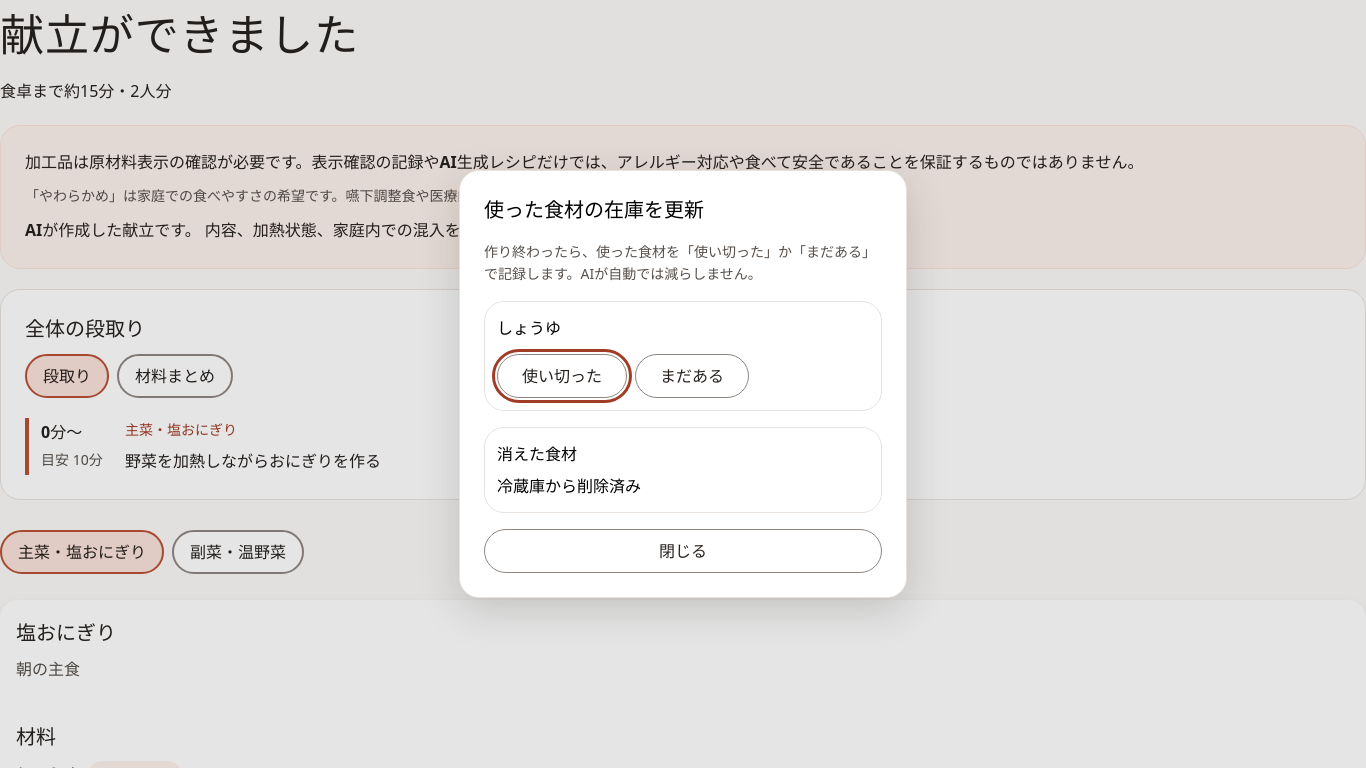
Test: cancels destructive pantry delete without writing
Step 1. Click the button "使い切った" → coordinates (562, 376), box [497, 354, 627, 398]
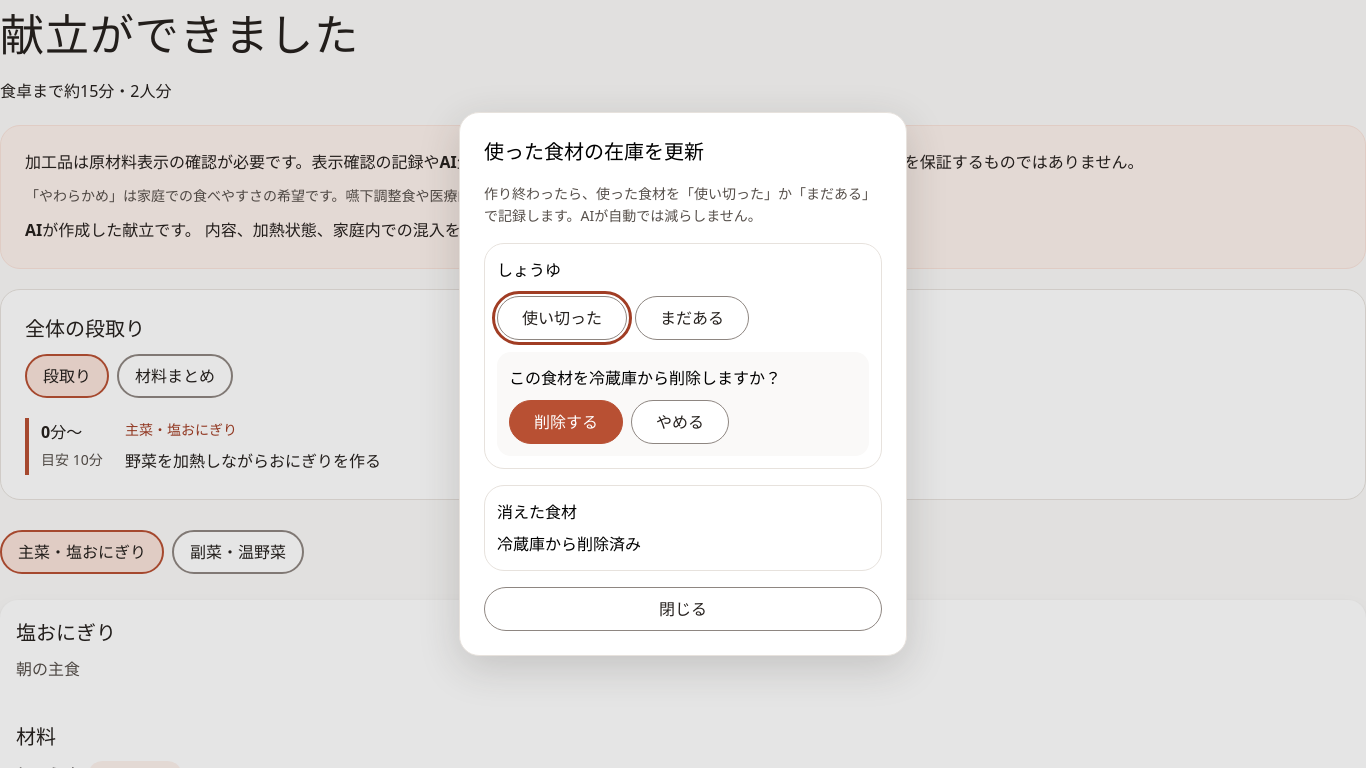
Expected: the text "この食材を冷蔵庫から削除しますか？" is shown, [509, 367, 781, 389]
Step 2. Click the button "やめる" → coordinates (680, 422), box [631, 400, 729, 444]
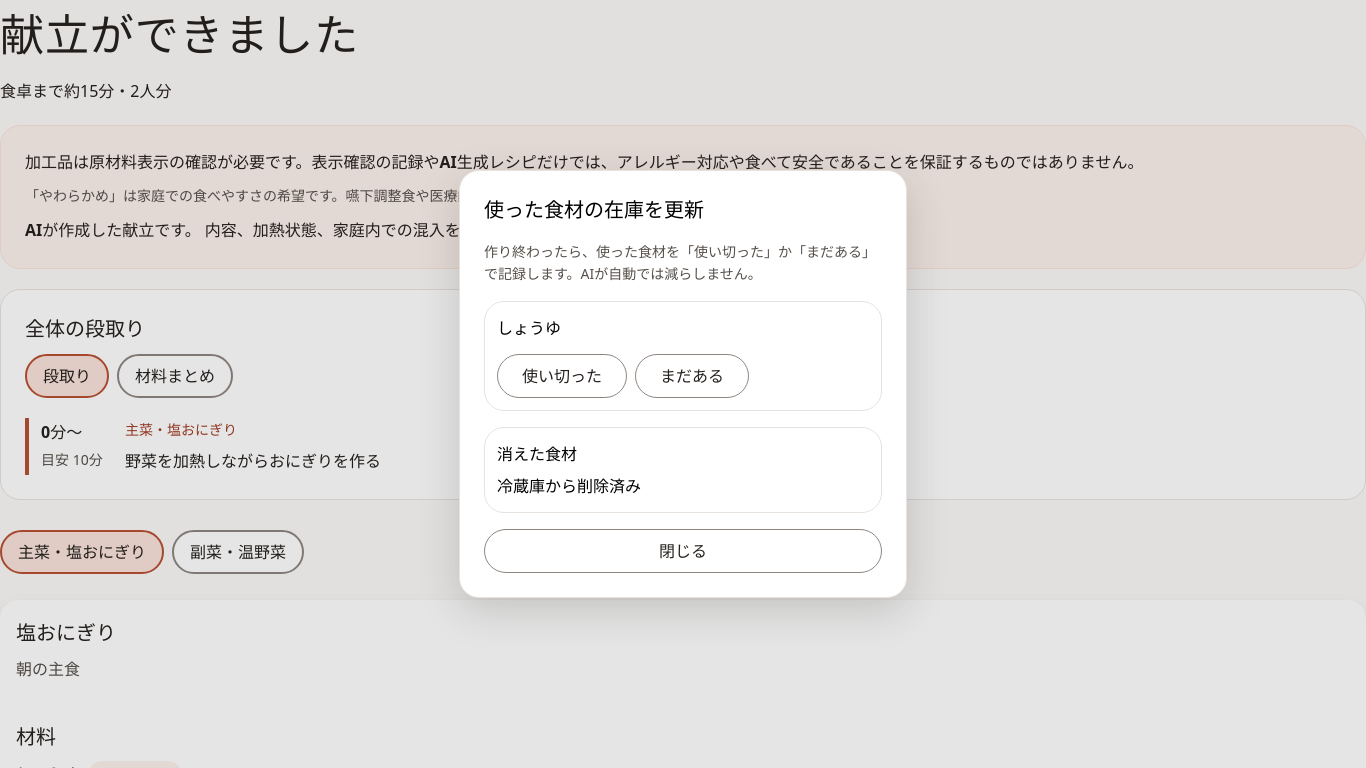
Expected: the text "この食材を冷蔵庫から削除しますか？" is gone
